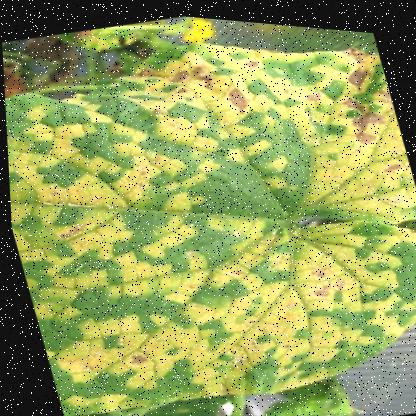DownyMildew: (83, 191, 338, 414), (6, 144, 215, 410), (212, 27, 415, 230), (67, 35, 267, 234), (187, 197, 408, 365), (3, 82, 149, 252)
